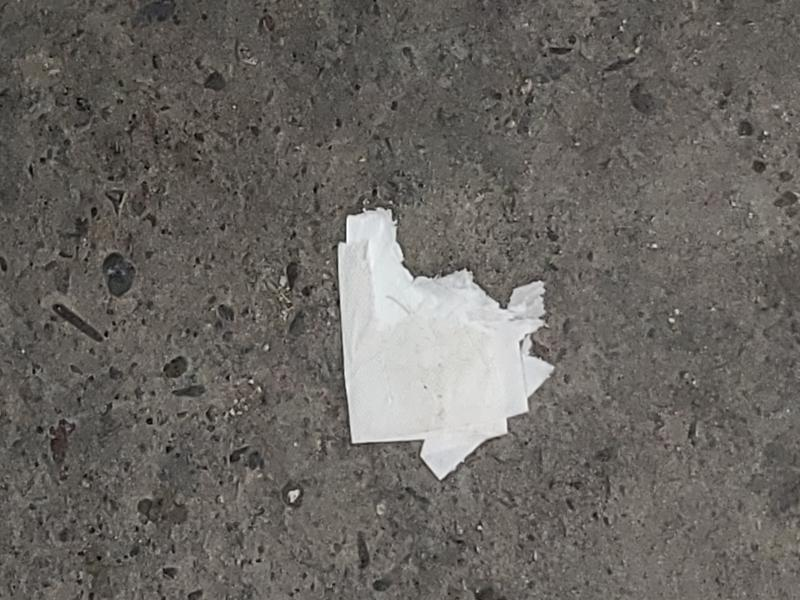papel: (336, 209, 554, 481)
